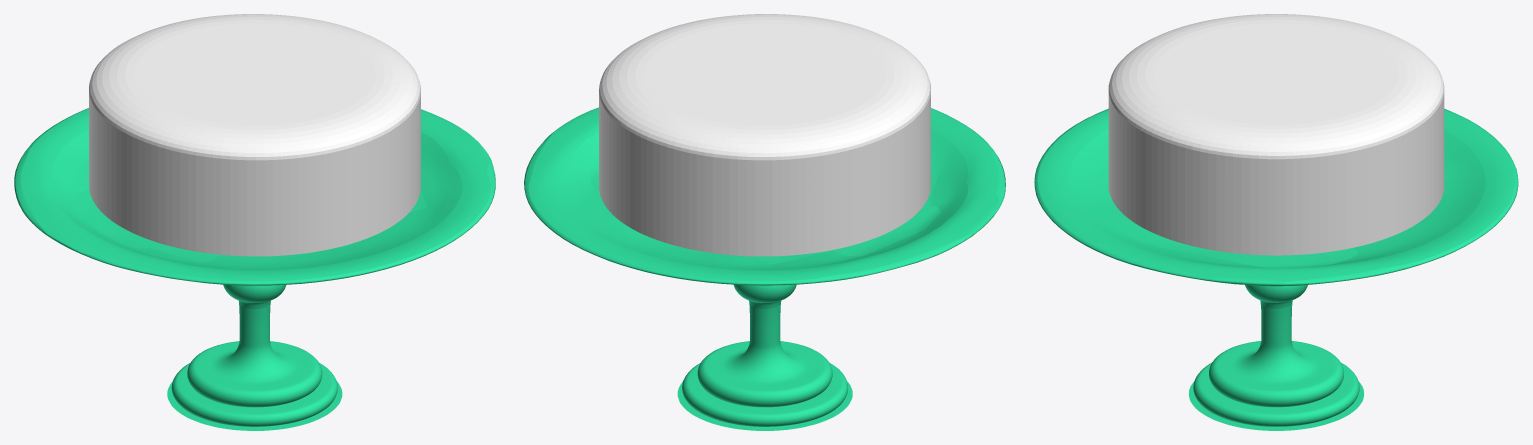
Rendered from cake-draco.glb.
3 renders of one model, left to right at view 1: azimuth 30°, elevation 25°; view 2: azimuth 150°, elevation 25°; view 3: azimuth 270°, elevation 25°, orthographic.
Visible parts, largest first — view 1: Cylinder, stand; view 2: Cylinder, stand; view 3: Cylinder, stand.
Boxes of the visible parts, x1,y1,x2,y2 form: Cylinder: (89, 14, 420, 256); stand: (14, 108, 495, 430); Cylinder: (599, 14, 930, 256); stand: (524, 107, 1005, 430); Cylinder: (1108, 14, 1444, 255); stand: (1034, 108, 1518, 430).
Size of the model in its own units: 5.8 by 4.21 by 5.77.
